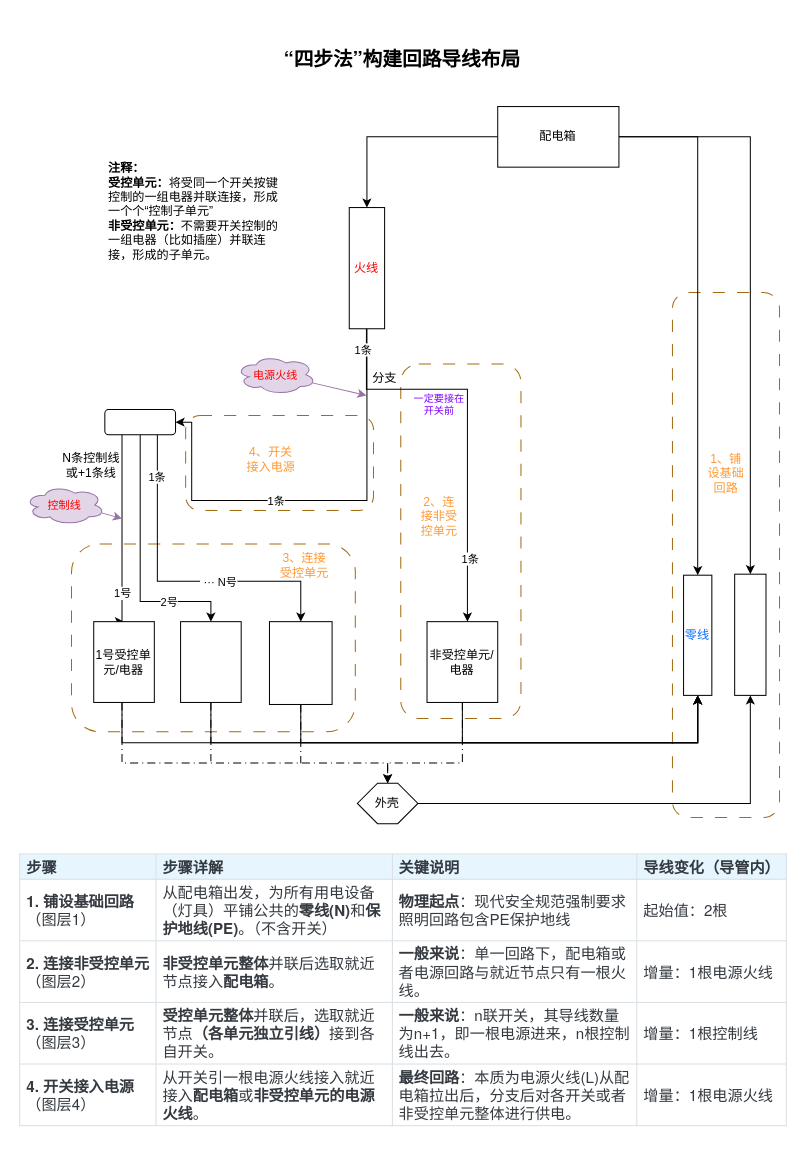
The diagram is 804 pixels wide and 1167 high, and some of its shapes have lost their labels. The shapes that lost their labels are listed below. From the top down, each one's centre as x and y in pixels, then its label:
At pixel 140 422: "N联开关".
At pixel 750 634: "PE线".
At pixel 210 661: "2号受控单元/电器".
At pixel 300 662: "N号受控单元/电器".
